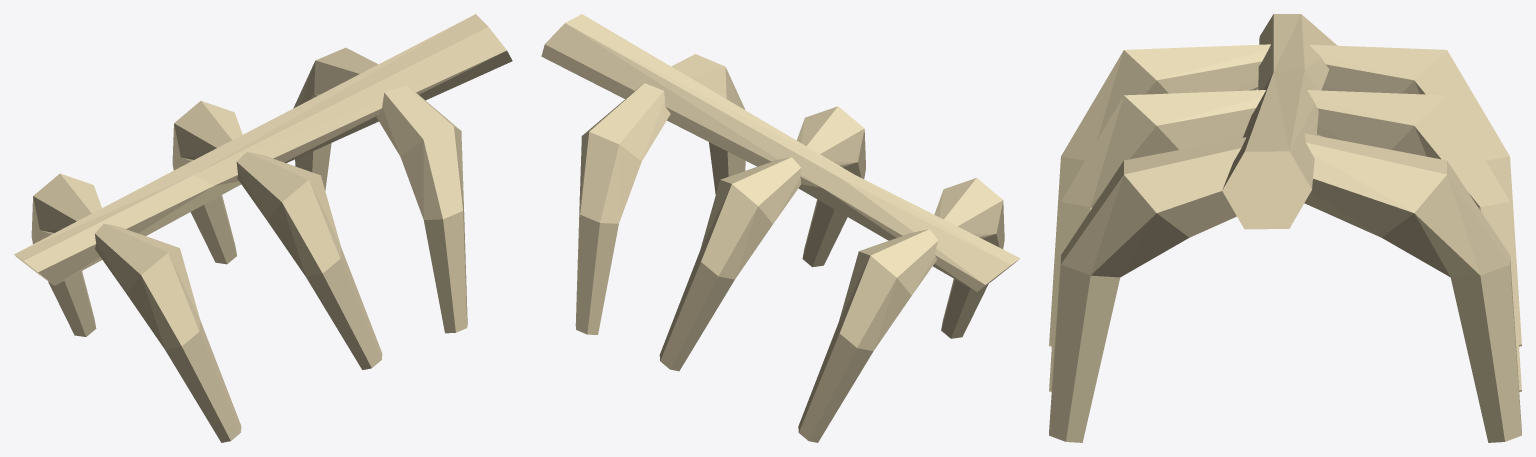
Rendered from bones.FBX.
3 renders of one model, left to right at view 1: azimuth 30°, elevation 25°; view 2: azimuth 150°, elevation 25°; view 3: azimuth 270°, elevation 25°, orthographic. The views are drawn at different scales.
Parts seen in each view (by area): view 1: bones_2; view 2: bones_2; view 3: bones_2.
Part boxes in pixels (x1,y1,x2,y2): bones_2: (14, 14, 512, 442); bones_2: (541, 14, 1020, 442); bones_2: (1049, 14, 1521, 442).
Size of the model in its own units: 8.04 by 4.69 by 4.57.
